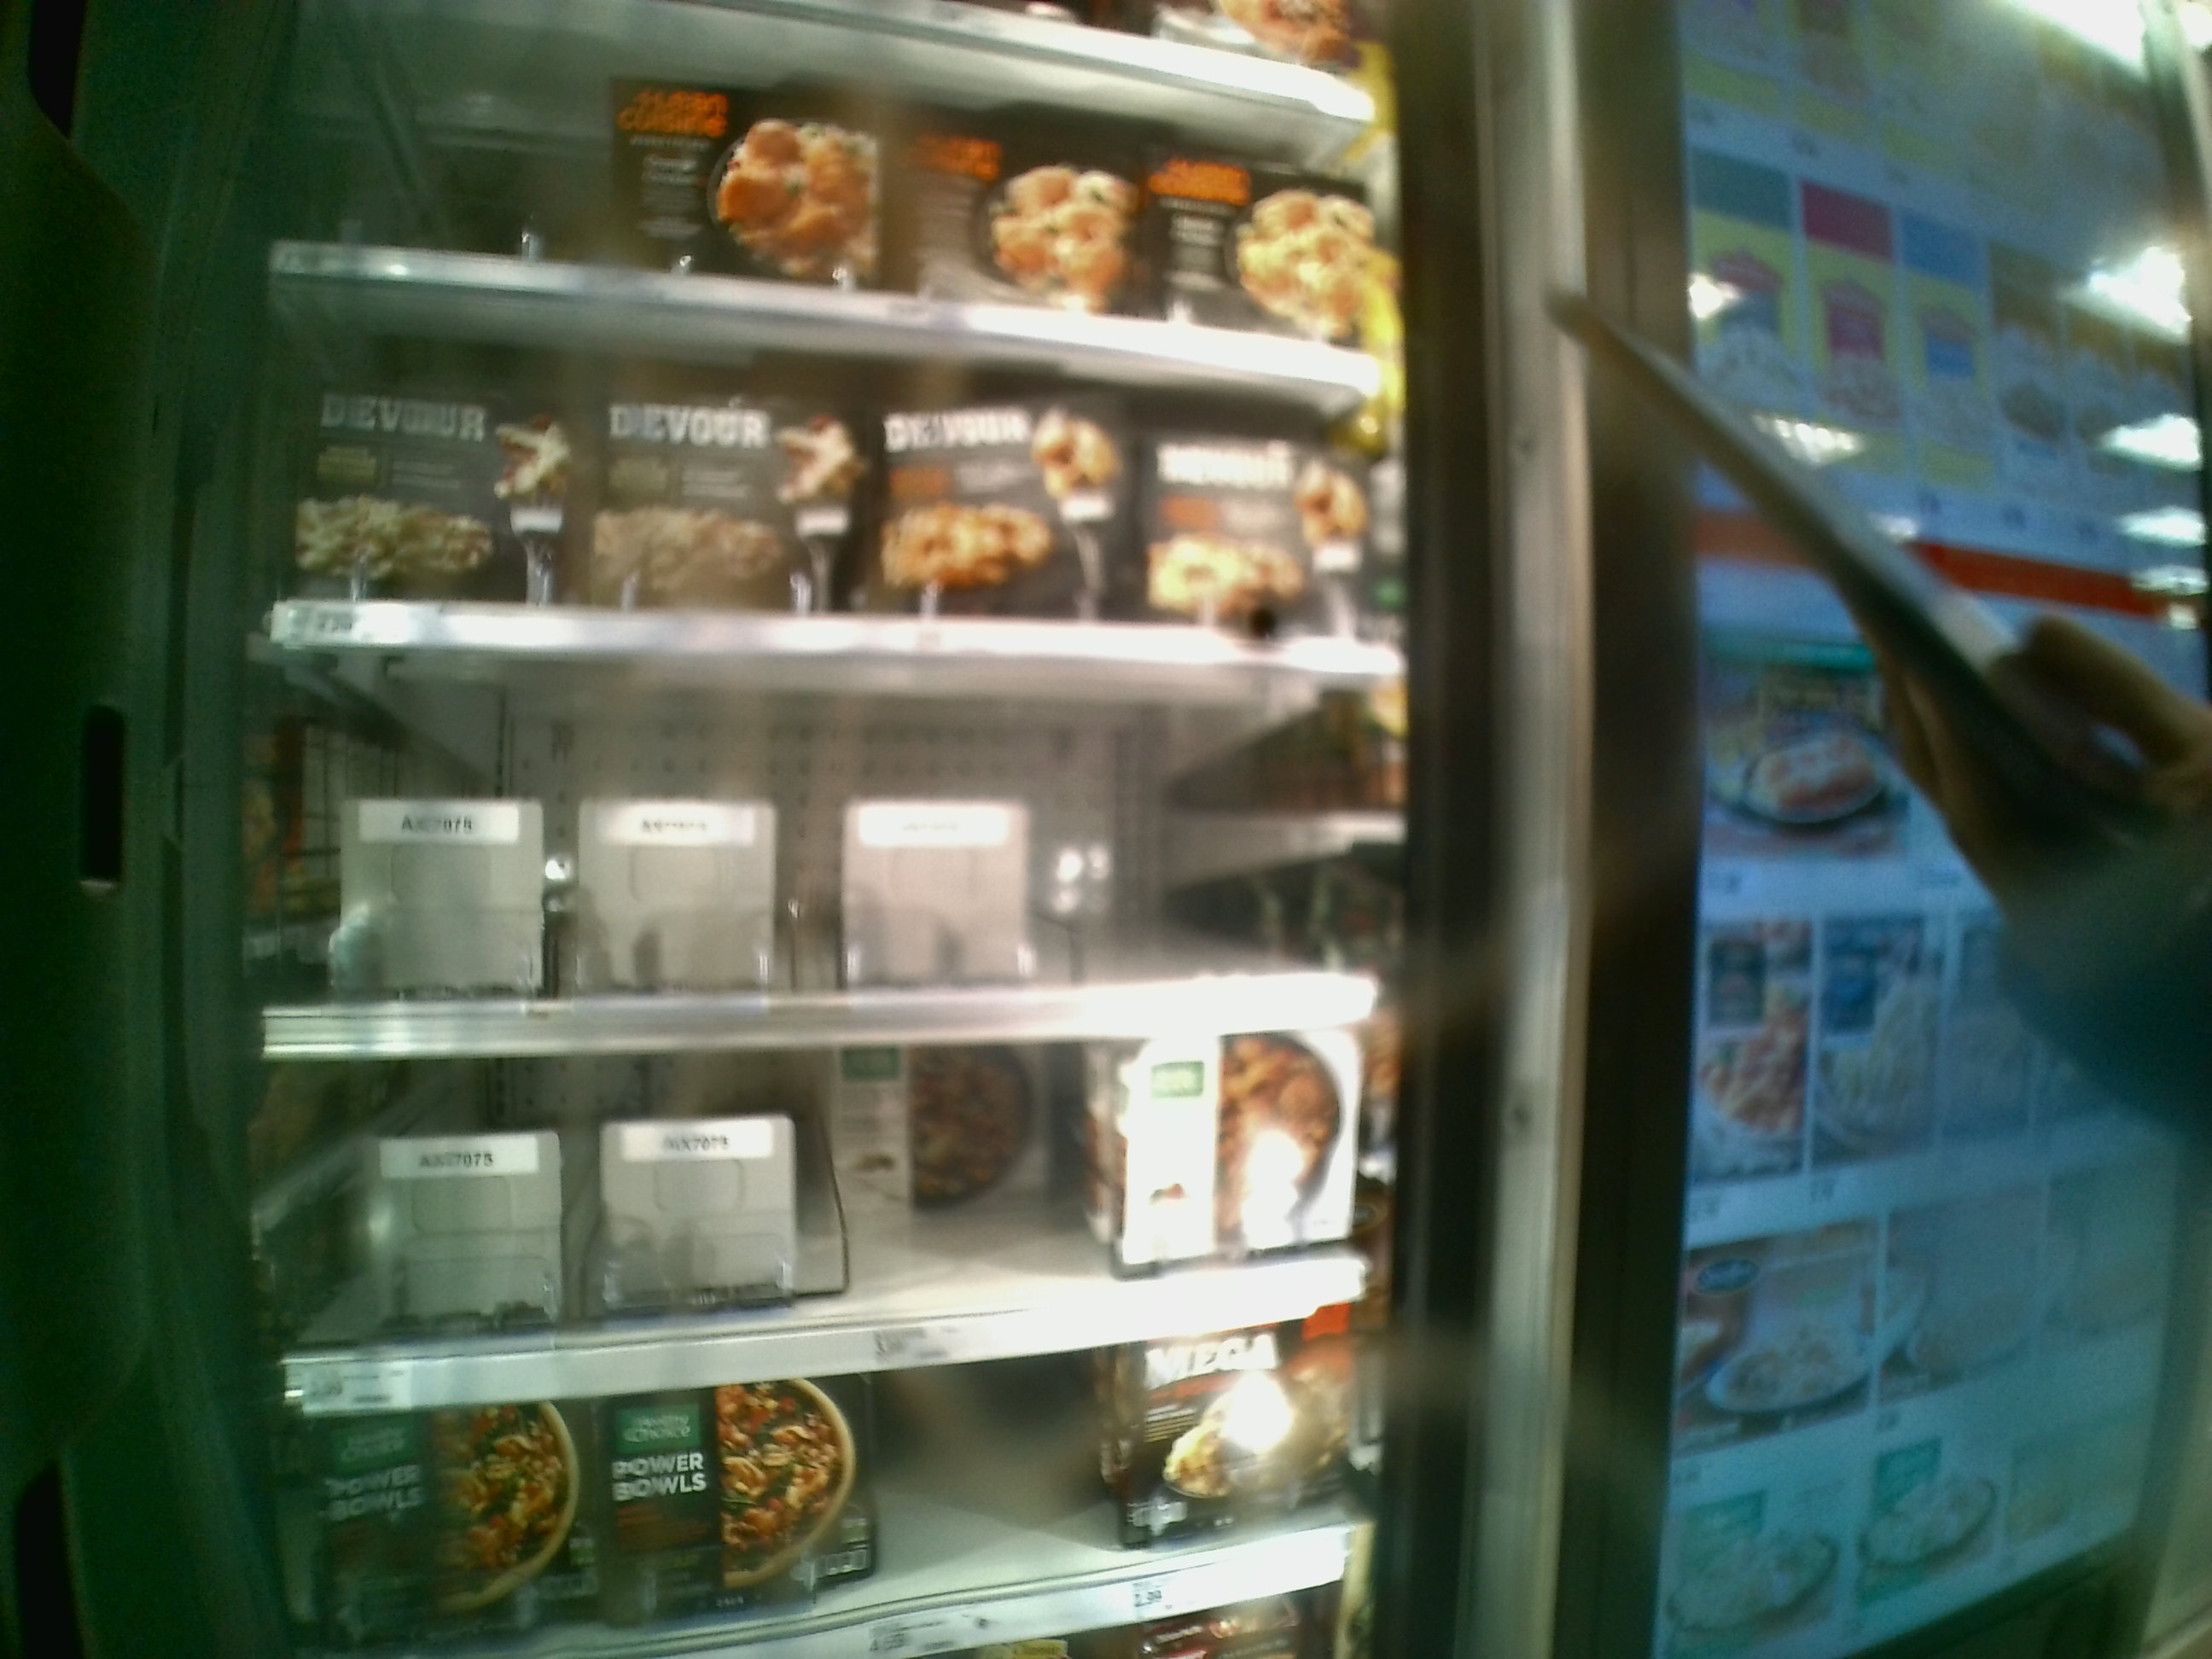shelf: (249, 633, 1385, 1042), (265, 1014, 1378, 1410)
